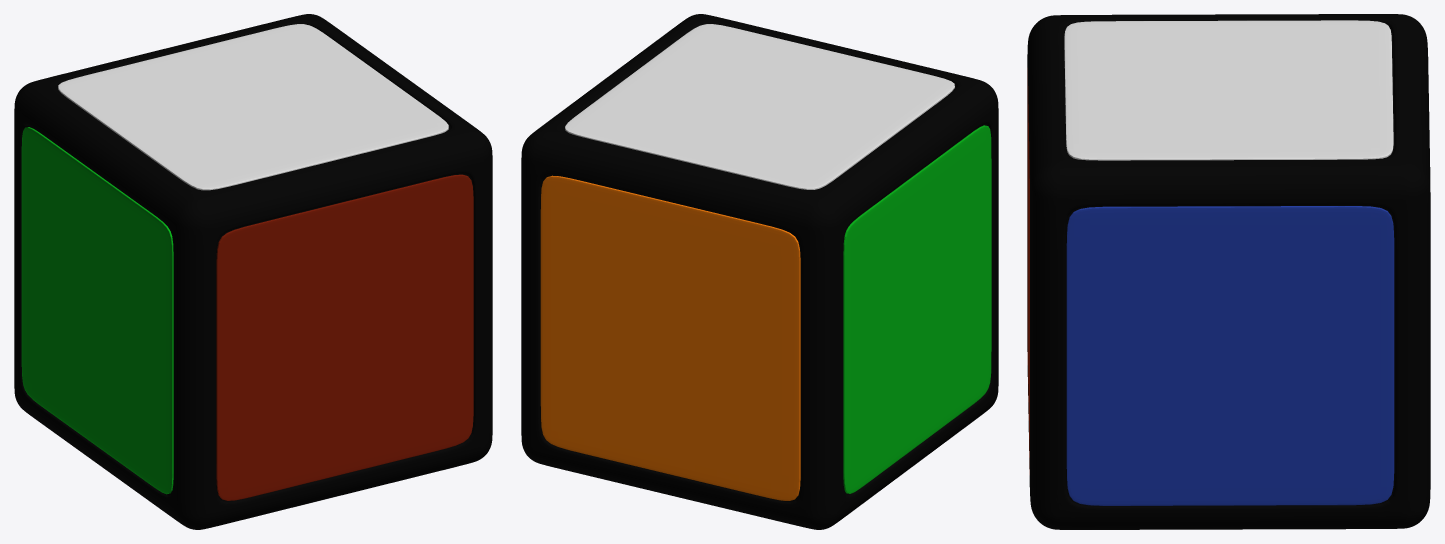
The model's file is RBsCubeWorldOriginCube.glb.
The picture shows the model from 3 angles, left to right: view 1: azimuth 30°, elevation 25°; view 2: azimuth 150°, elevation 25°; view 3: azimuth 270°, elevation 25°; orthographic projection. The views are drawn at different scales.
Visible parts, largest first — view 1: single_colored_cube.001; view 2: single_colored_cube.001; view 3: single_colored_cube.001.
Boxes of the visible parts, box(x1,y1,x2,y2) form: single_colored_cube.001: box(14, 14, 492, 529); single_colored_cube.001: box(521, 14, 998, 529); single_colored_cube.001: box(1027, 14, 1430, 529).
Size of the model in its own units: 1 by 1 by 1.
